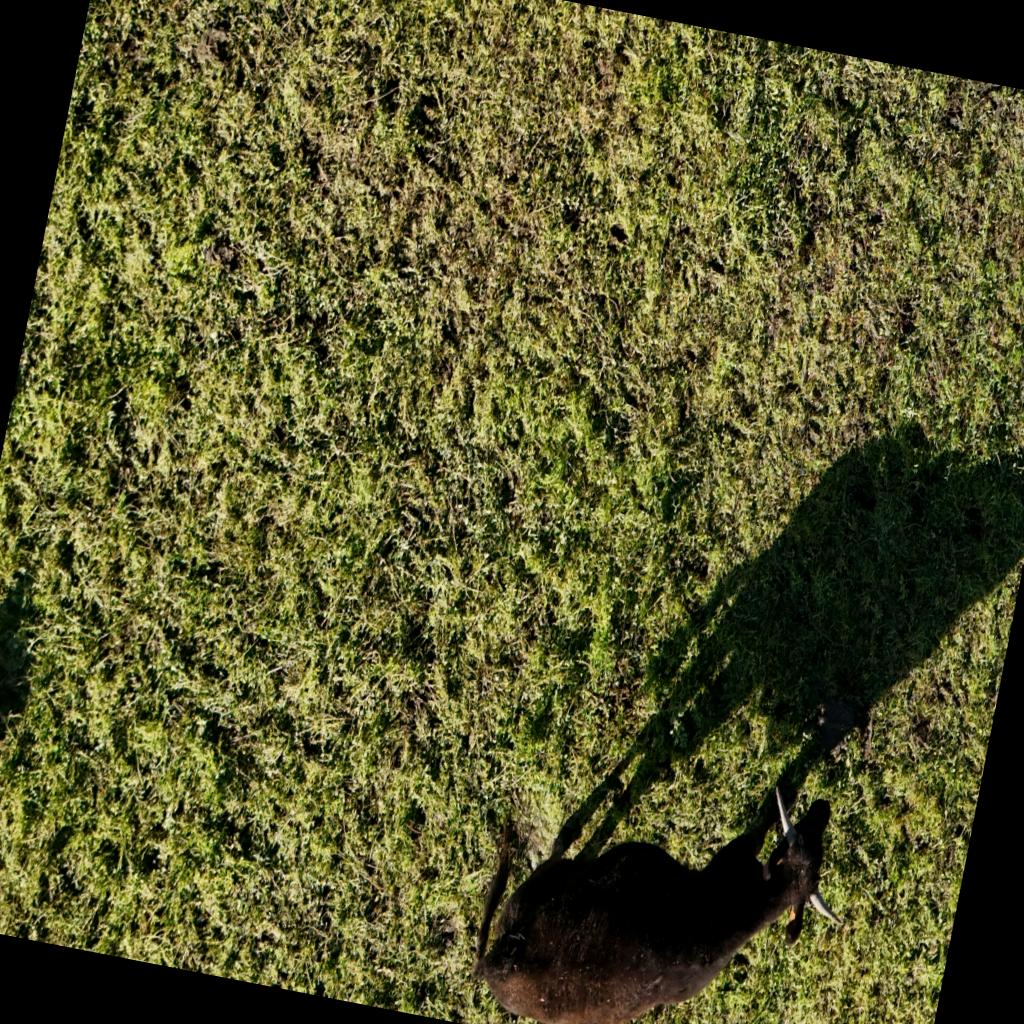cow: (470, 711, 863, 1024)
